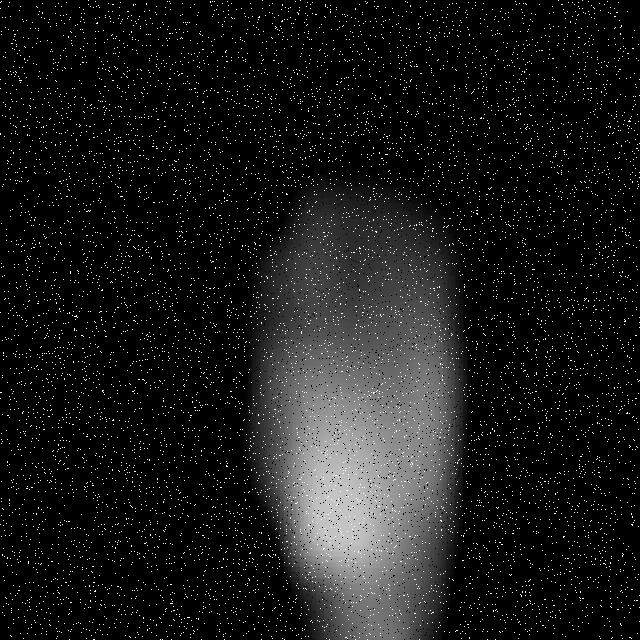person: (209, 120, 507, 640)
